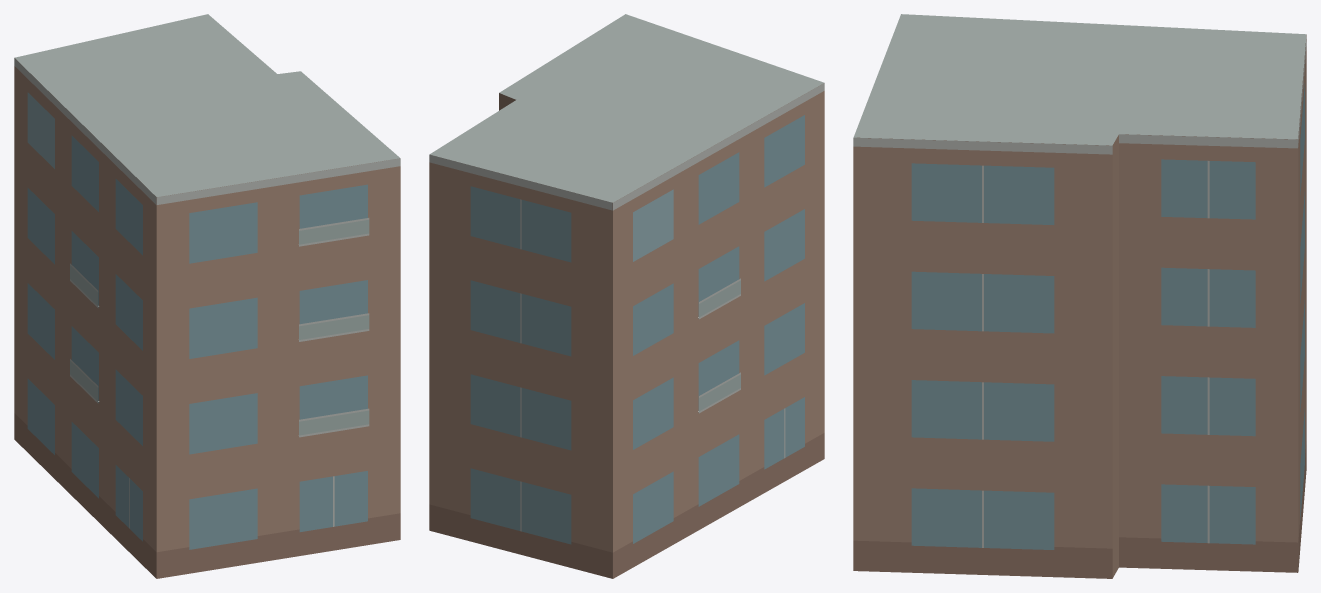
Rendered from survey-upis-32729573.glb.
The picture shows the model from 3 angles, left to right: view 1: azimuth 30°, elevation 25°; view 2: azimuth 150°, elevation 25°; view 3: azimuth 270°, elevation 25°; orthographic projection. The views are drawn at different scales.
Visible parts, largest first — view 1: survey-upis-32729573.tmp; view 2: survey-upis-32729573.tmp; view 3: survey-upis-32729573.tmp.
Boxes of the visible parts, <box> form: survey-upis-32729573.tmp: <box>14,14,400,578</box>; survey-upis-32729573.tmp: <box>429,14,824,578</box>; survey-upis-32729573.tmp: <box>853,14,1306,578</box>.
Size of the model in its own units: 7.63 by 11.7 by 11.1.
